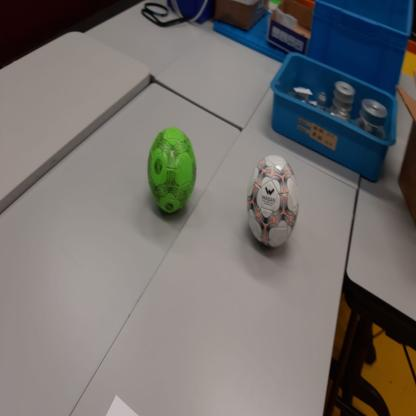ball: (248, 155, 299, 251), (148, 127, 196, 217)
